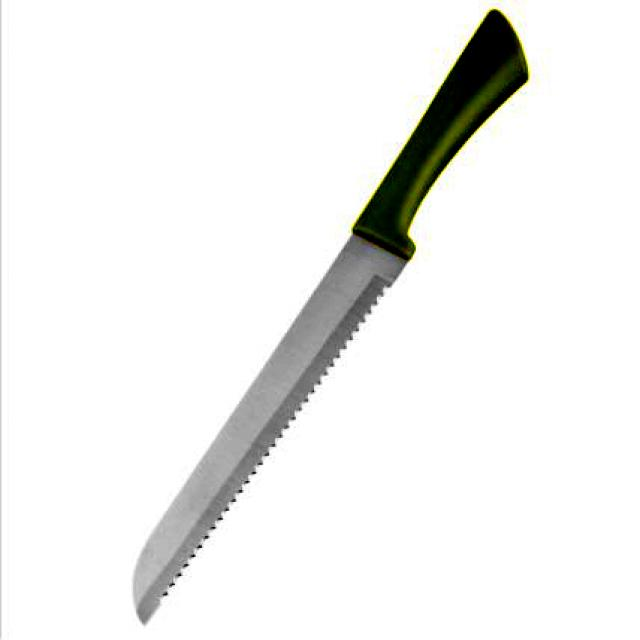knife: (106, 16, 580, 636)
